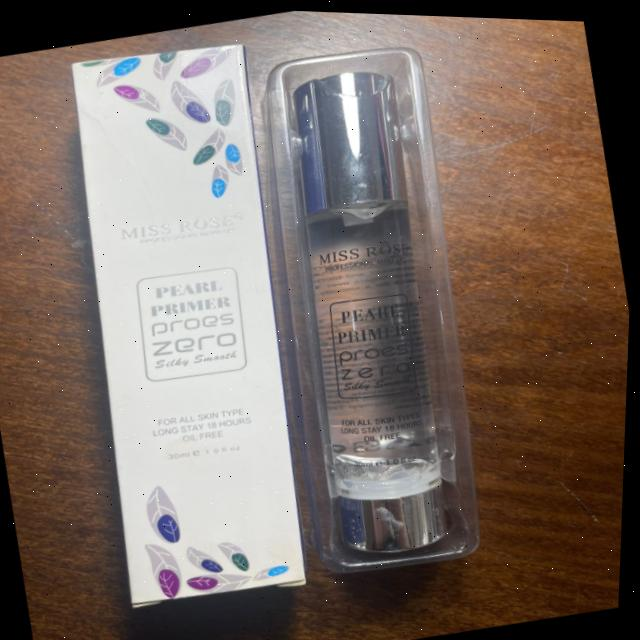lip gloss: (218, 19, 538, 594)
